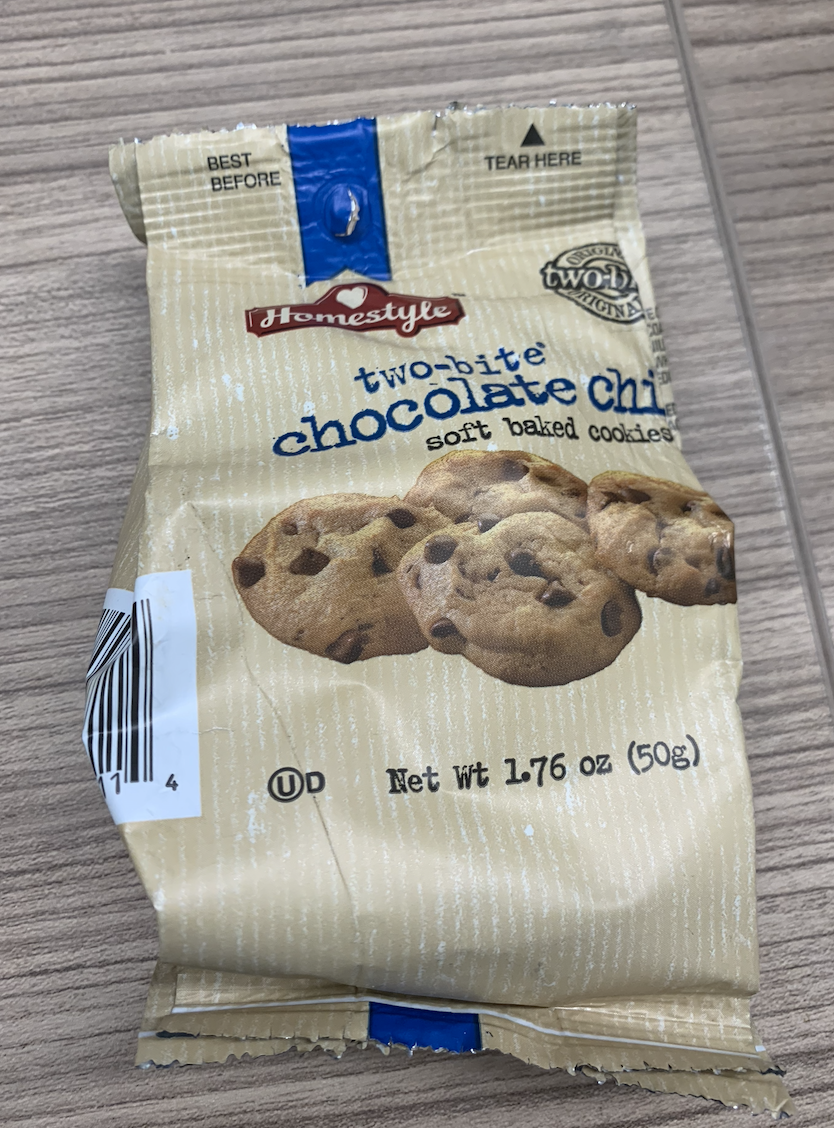cookies_50g: (198, 174, 736, 1004)
